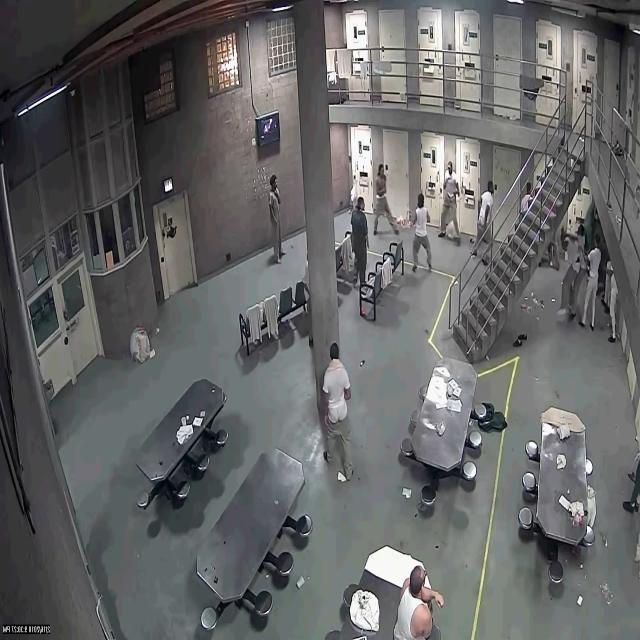non-violence: (320, 343, 355, 484), (392, 562, 446, 640), (468, 180, 498, 263), (440, 164, 465, 245), (350, 197, 372, 286), (410, 193, 434, 274), (374, 165, 401, 237), (268, 173, 286, 262), (606, 258, 620, 340), (583, 245, 596, 329)
violence: (558, 224, 587, 320)
